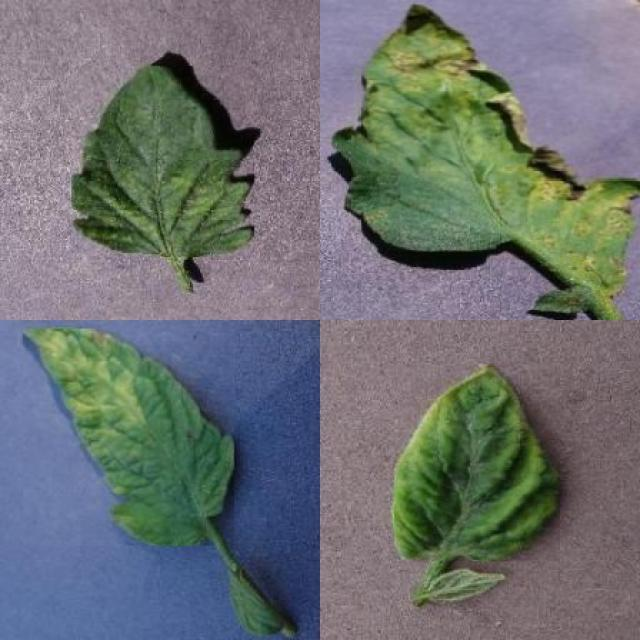Leaf Mold: (23, 328, 234, 546)
Mosaic Virus: (72, 66, 255, 257)
Septoria: (332, 3, 640, 320)
Yellow Leaf Curl Virus: (394, 365, 560, 562)
